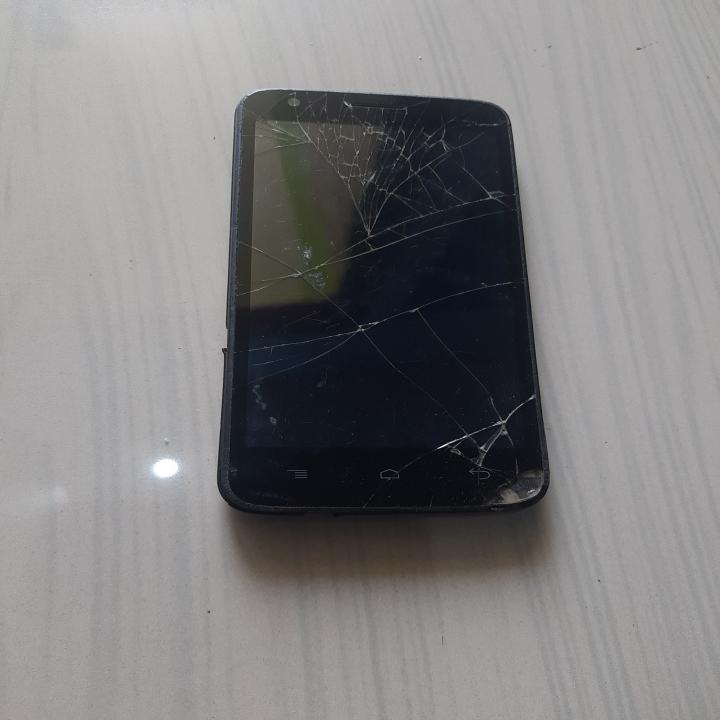Crack: (236, 230, 535, 369), (239, 88, 515, 227), (419, 363, 550, 509)
